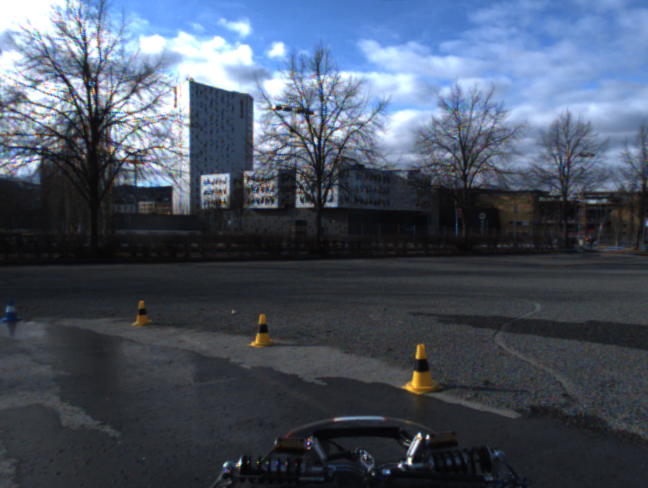cone-small-blue: (1, 299, 21, 322)
cone-small-yellow: (401, 343, 445, 395), (247, 314, 276, 348), (131, 300, 153, 326)
